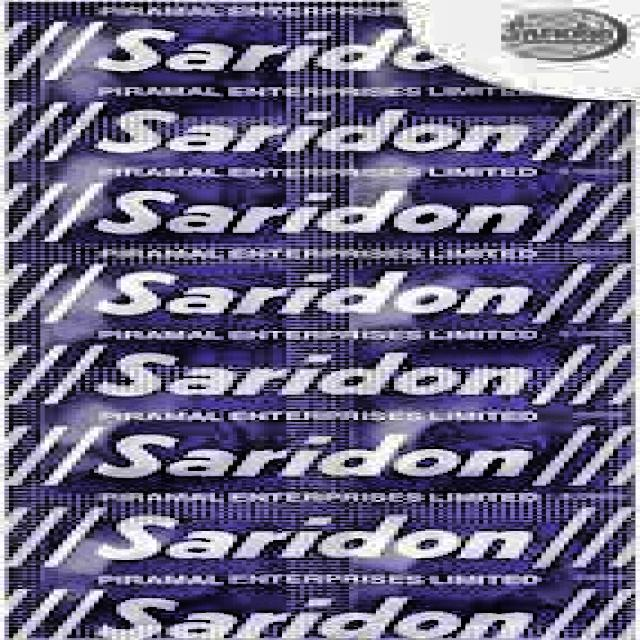Saridon: (16, 5, 634, 636)
